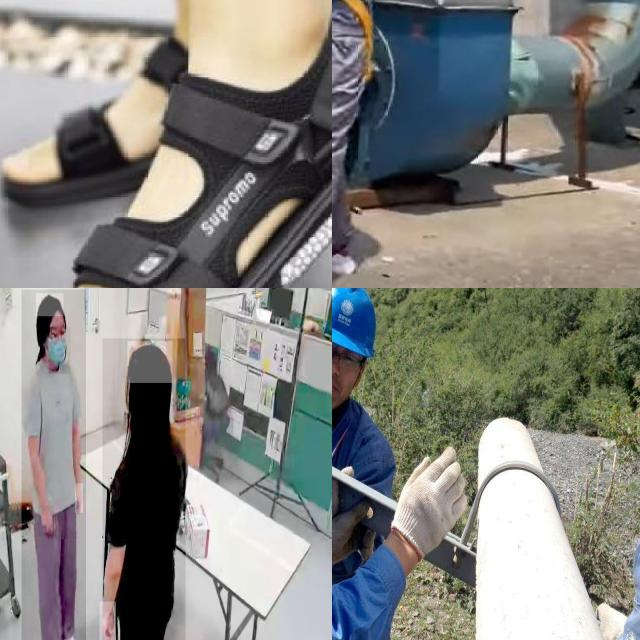Sandals: (22, 0, 332, 288)
face_mask: (48, 327, 70, 374)
hand_noglove: (99, 601, 116, 640), (38, 506, 54, 538), (75, 484, 83, 514)
head_nohelmet: (127, 341, 173, 384), (36, 293, 64, 317)
person: (102, 338, 185, 640), (21, 289, 86, 640)
